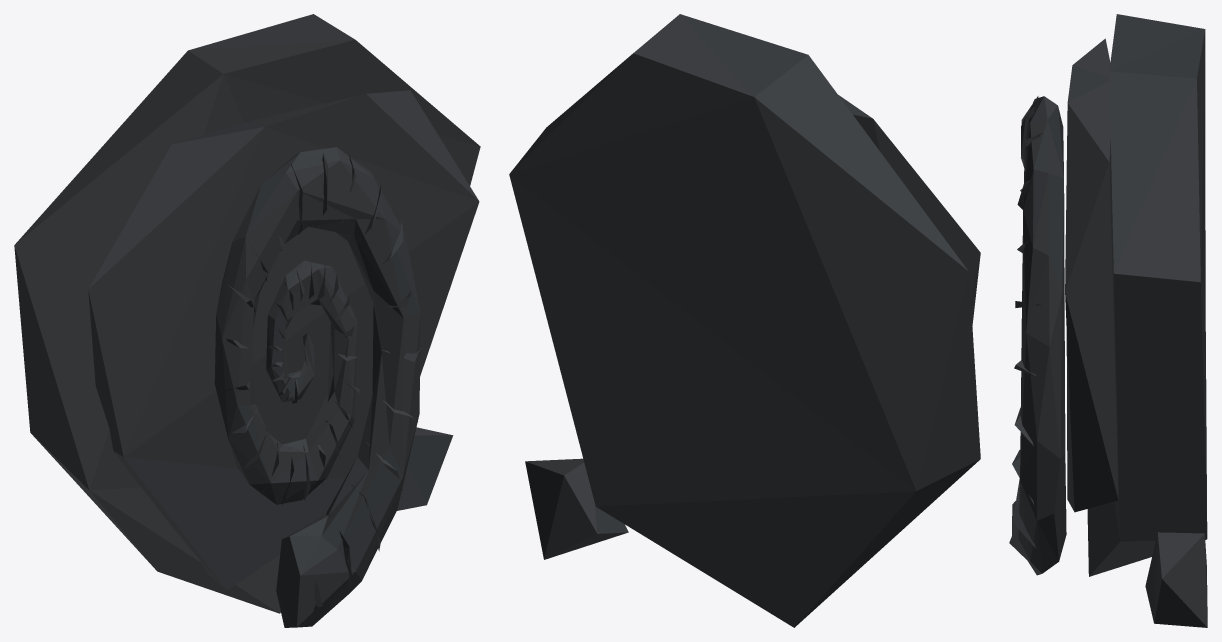
File: SPENT_FERNSTONE.shadow.glb
3 views of the same model, side by side, from view 1: azimuth 30°, elevation 25°; view 2: azimuth 150°, elevation 25°; view 3: azimuth 270°, elevation 25° (orthographic). The views are drawn at different scales.
Visible parts, largest first — view 1: Body_Mesh; view 2: Body_Mesh; view 3: Body_Mesh.
Part boxes in pixels (x1,y1,x2,y2): Body_Mesh: (14,14,480,627); Body_Mesh: (509,14,980,627); Body_Mesh: (1009,14,1207,627).
Size of the model in its own units: 0.2858 by 0.3401 by 0.1118.
Materials: 1 (1 with a texture image).
